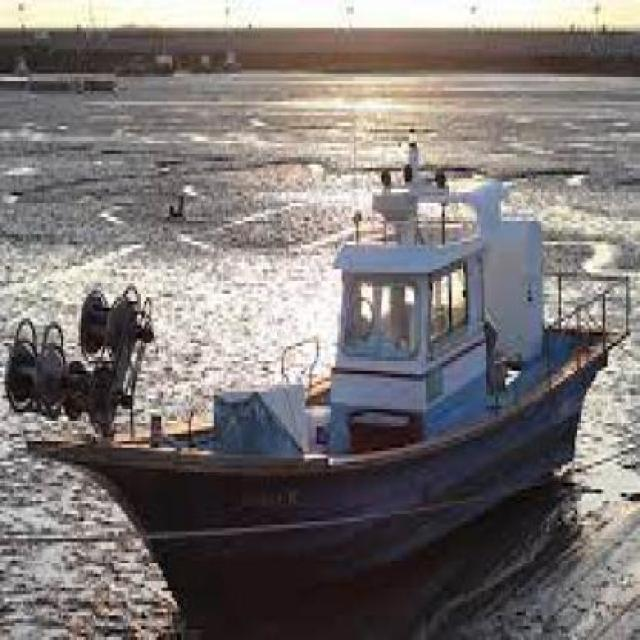fish-b: (17, 127, 628, 638)
